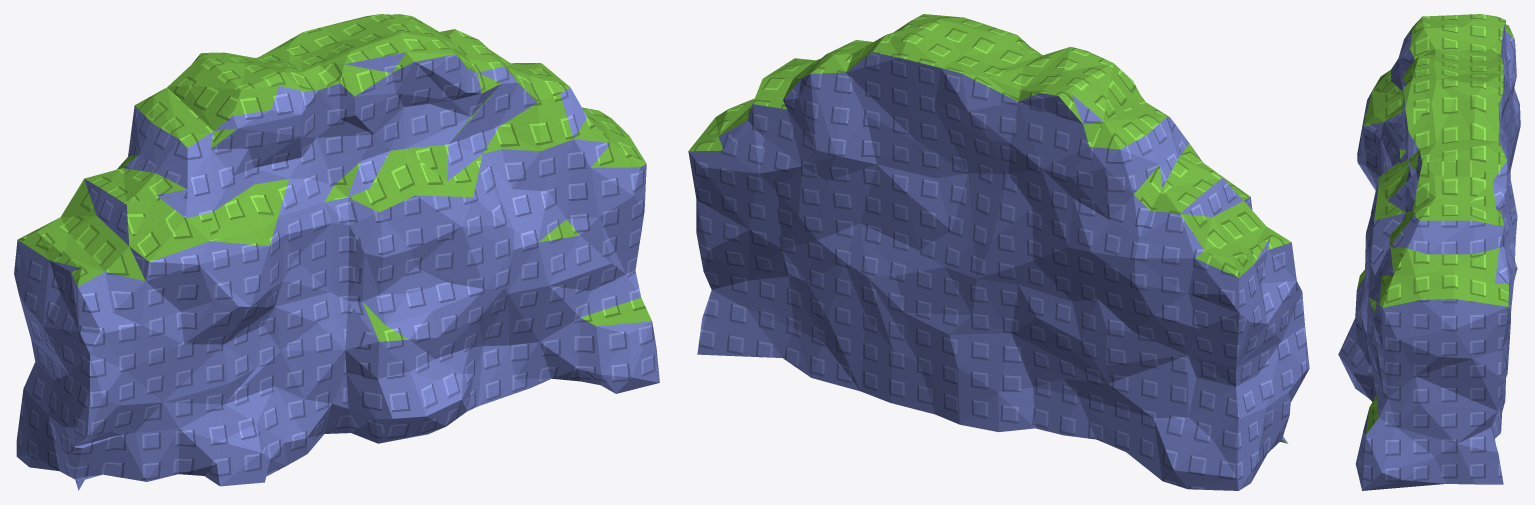
Rendered from CliffWall.glb.
3 views of the same model, side by side, from view 1: azimuth 30°, elevation 25°; view 2: azimuth 150°, elevation 25°; view 3: azimuth 270°, elevation 25° (orthographic). The views are drawn at different scales.
Parts seen in each view (by area): view 1: CliffWall_Rock, CliffWall_Top; view 2: CliffWall_Rock, CliffWall_Top; view 3: CliffWall_Rock, CliffWall_Top.
Boxes of the visible parts, bbox=[...] form: CliffWall_Rock: bbox=[14, 52, 659, 490]; CliffWall_Top: bbox=[17, 14, 651, 479]; CliffWall_Rock: bbox=[688, 52, 1309, 490]; CliffWall_Top: bbox=[688, 14, 1291, 443]; CliffWall_Rock: bbox=[1338, 21, 1520, 490]; CliffWall_Top: bbox=[1357, 14, 1514, 434].
Bounding box in the file's own units: 20.41 × 12.8 × 6.46.
2 materials, 2 textured.
